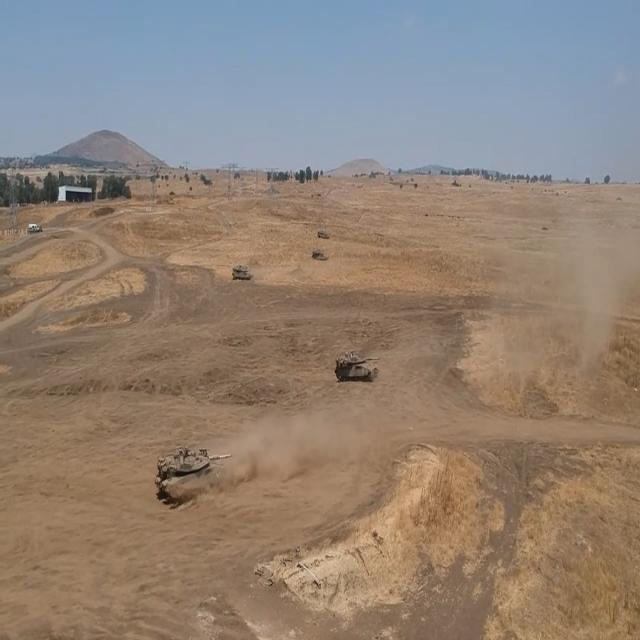tank: (145, 429, 236, 514), (335, 346, 379, 389), (228, 257, 255, 285), (309, 247, 330, 267), (318, 233, 330, 243)
